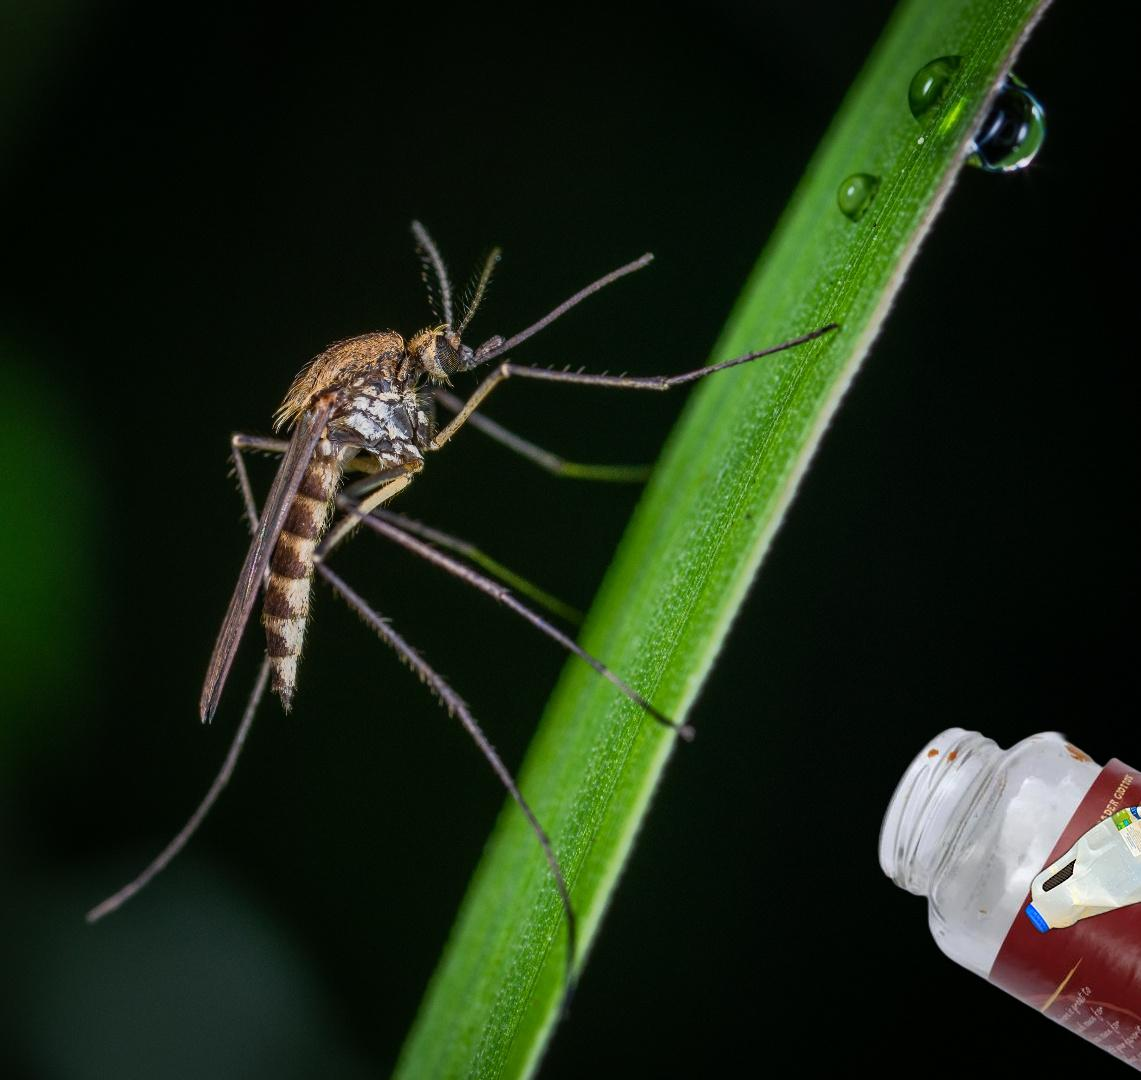glass: (874, 724, 1141, 1080)
plastic-bottles: (1021, 798, 1141, 940)
